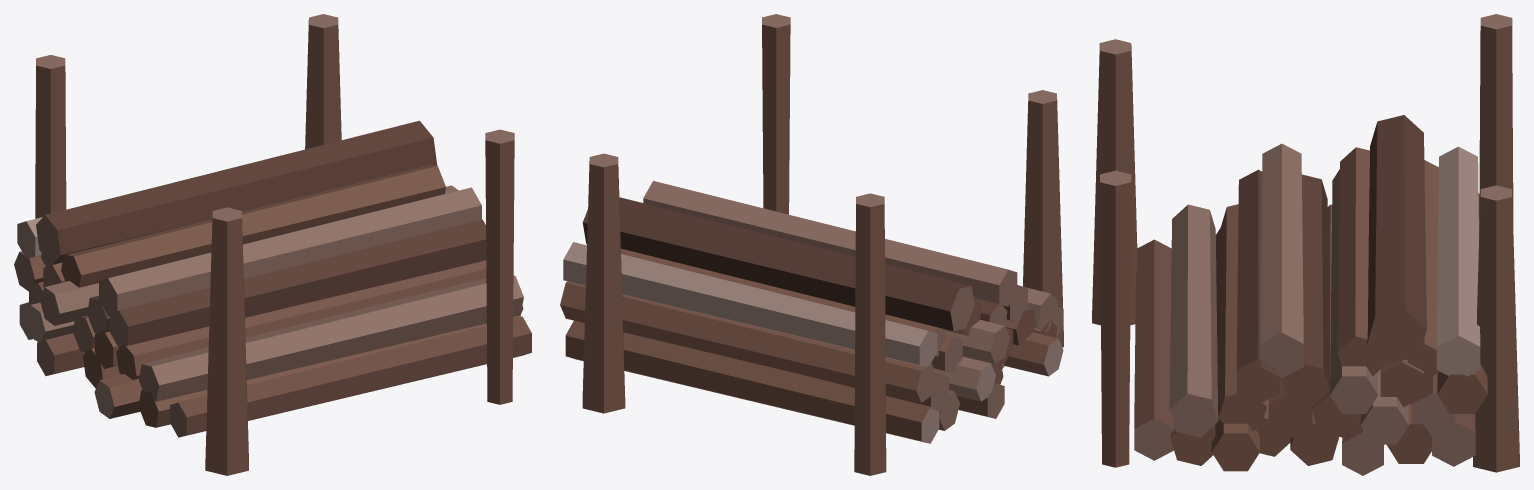
Rendered from props_033.glb.
3 renders of one model, left to right at view 1: azimuth 30°, elevation 25°; view 2: azimuth 150°, elevation 25°; view 3: azimuth 270°, elevation 25°, orthographic. The views are drawn at different scales.
Visible parts, largest first — view 1: props_033; view 2: props_033; view 3: props_033.
Part boxes in pixels (<box>): props_033: <box>14,14,531,475</box>; props_033: <box>560,14,1063,475</box>; props_033: <box>1092,14,1519,475</box>.
Bounding box in the file's own units: 6.23 × 4 × 5.25.
1 material, 1 textured.
